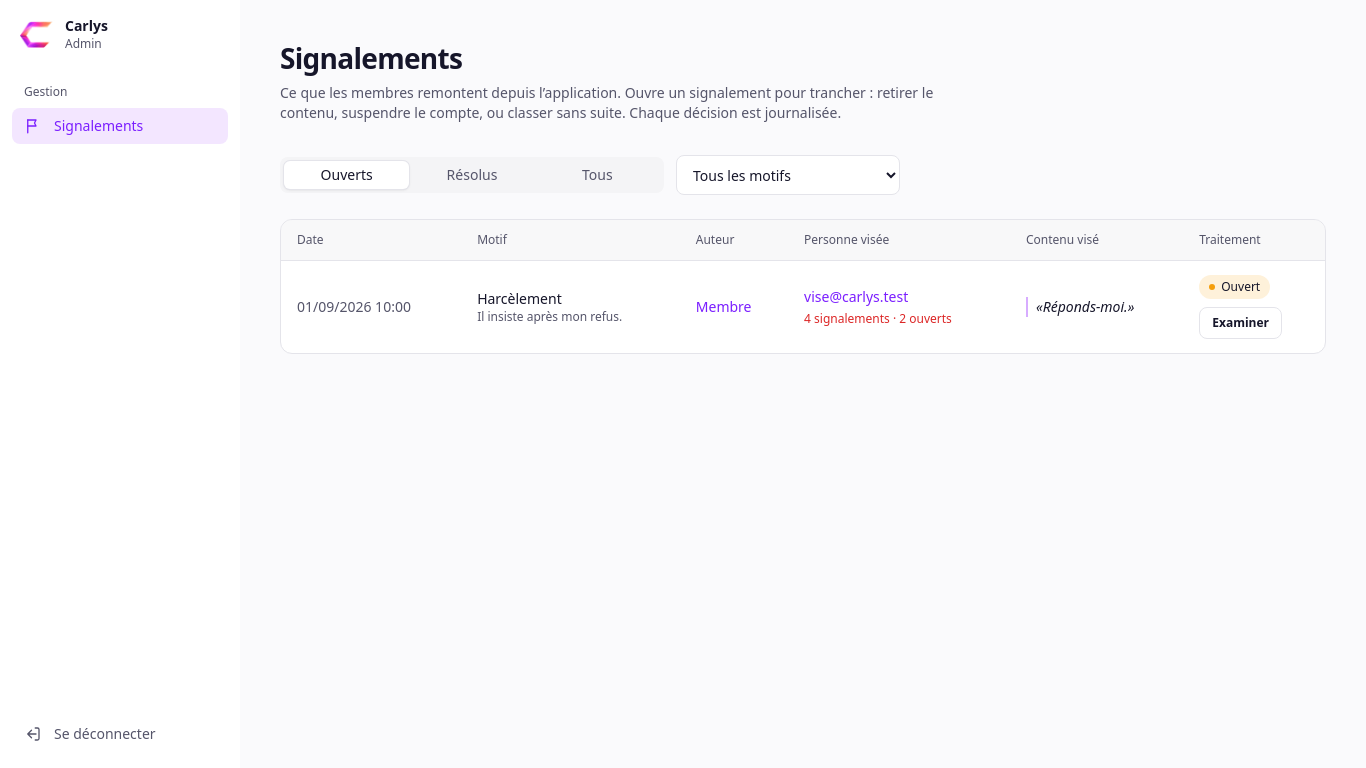
Test case: Page Signalements › décision › l’historique d’une récidive filtre la liste sur la personne visée
The image size is (1366, 768).
What coordinates should you click on to do the following:
click the button "Examiner"
I would click on:
 (1241, 323)
Its box is x1=1199 y1=307 x2=1282 y2=339.
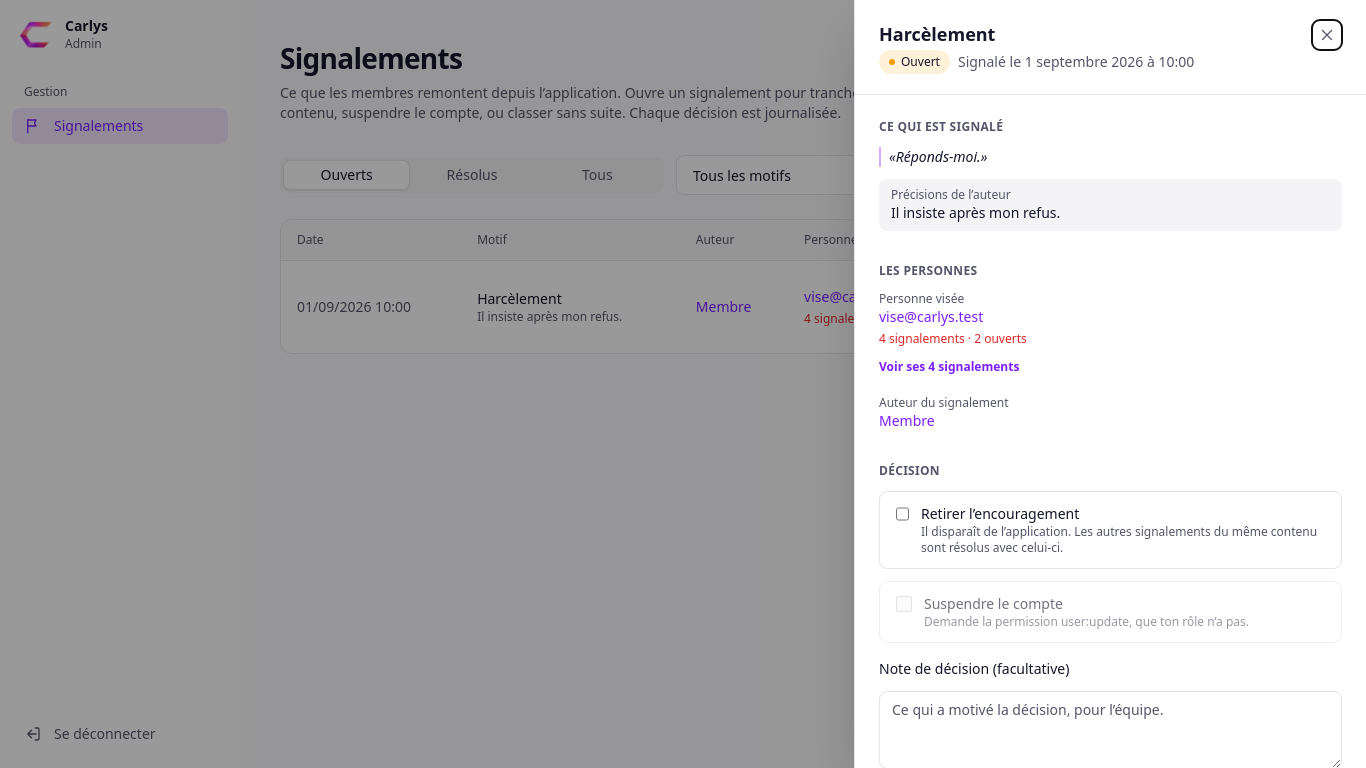
What coordinates should you click on to do the following:
click the button "Voir ses 4 signalements"
I would click on:
 (949, 367)
Its box is x1=867 y1=351 x2=1031 y2=383.
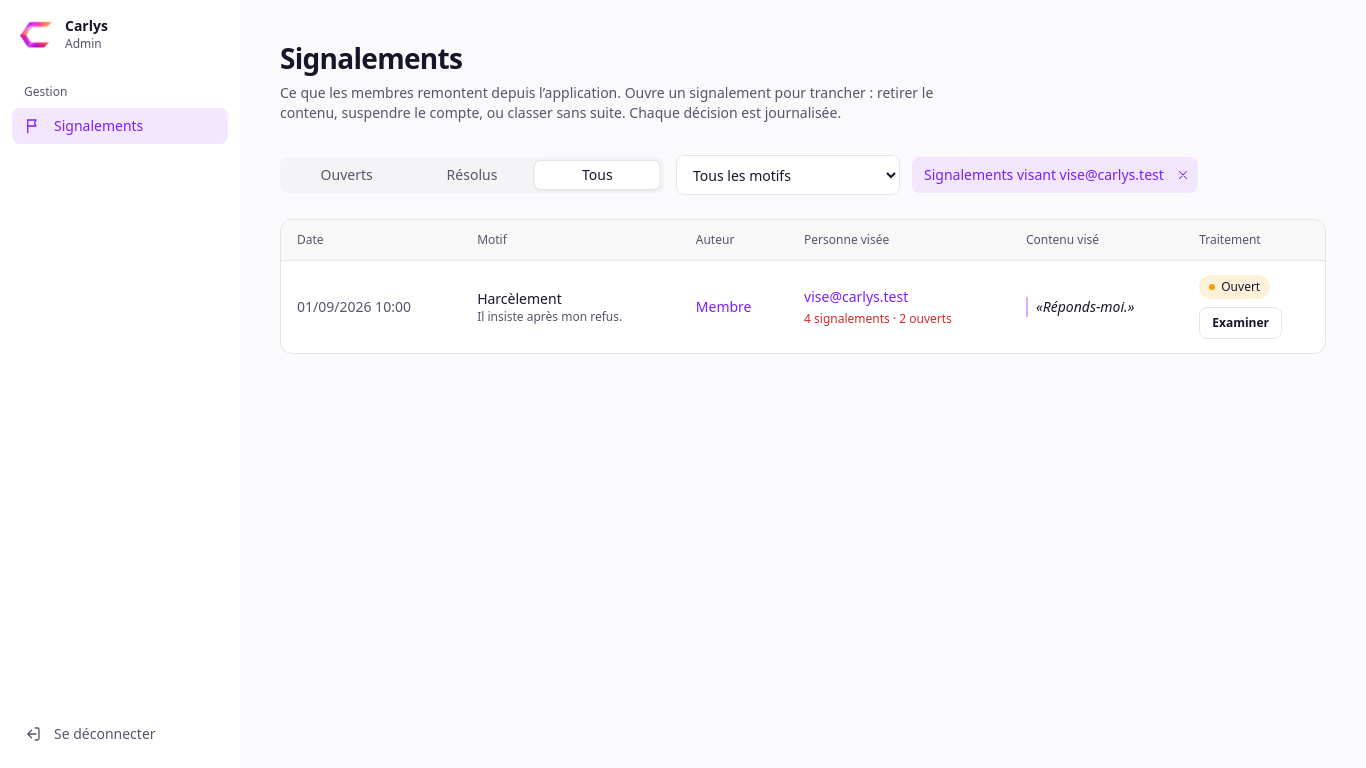
Check: the text "Signalements visant vise@carlys.test" is shown, box x1=912 y1=157 x2=1198 y2=193
